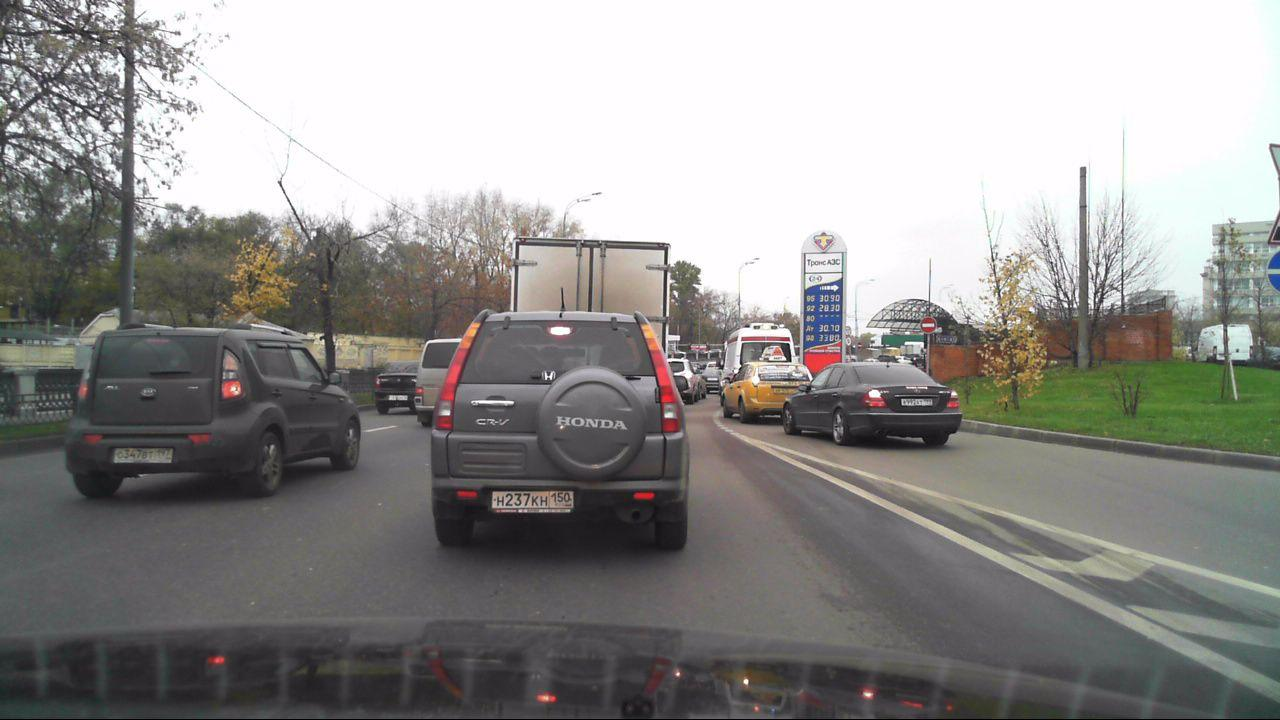road_sign: (920, 316, 938, 334)
